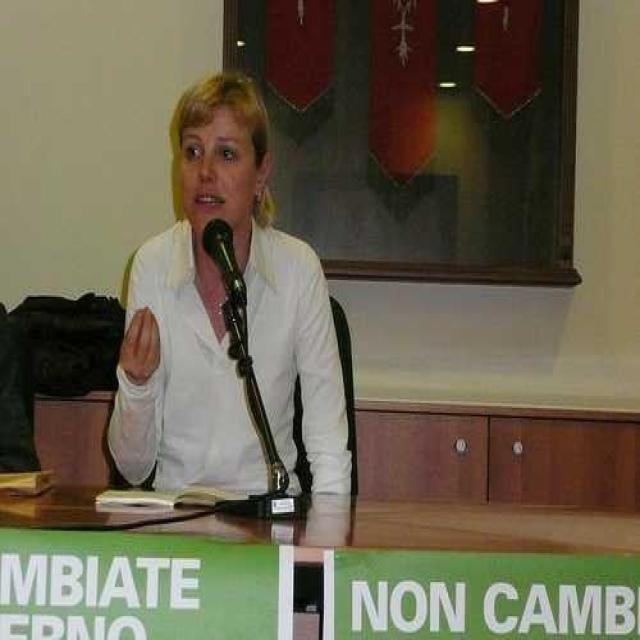microphone: (202, 216, 248, 320)
